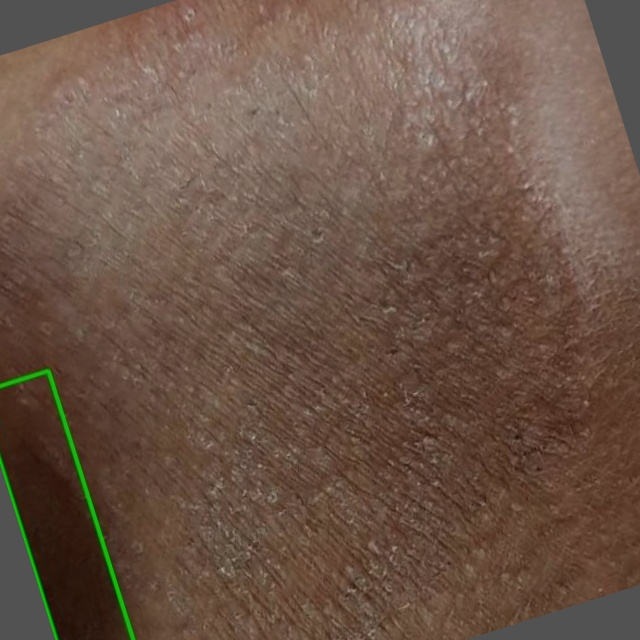Tinea Corporis: (0, 371, 133, 639)
